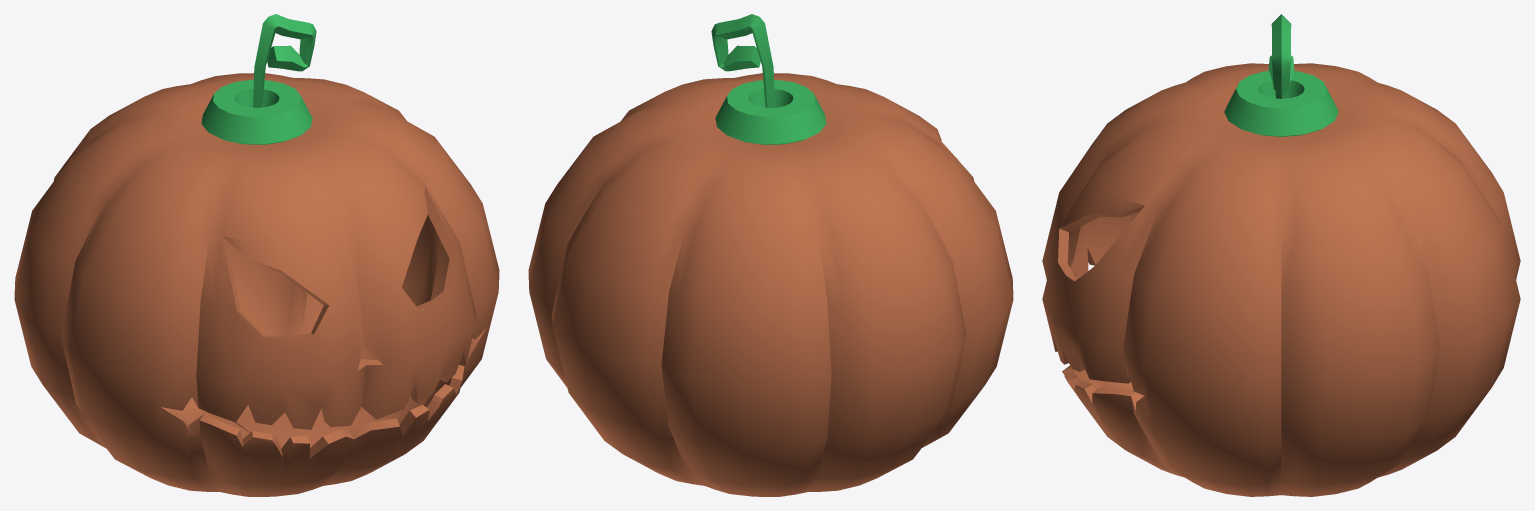
Rendered from Abobora.fbx.
3 renders of one model, left to right at view 1: azimuth 30°, elevation 25°; view 2: azimuth 150°, elevation 25°; view 3: azimuth 270°, elevation 25°, orthographic. The views are drawn at different scales.
Parts seen in each view (by area): view 1: Abobora; view 2: Abobora; view 3: Abobora.
Boxes of the visible parts, bbox=[...] form: Abobora: bbox=[14, 14, 499, 496]; Abobora: bbox=[528, 14, 1013, 496]; Abobora: bbox=[1042, 14, 1520, 496].
Bounding box in the file's own units: 57.65 × 56.96 × 56.
